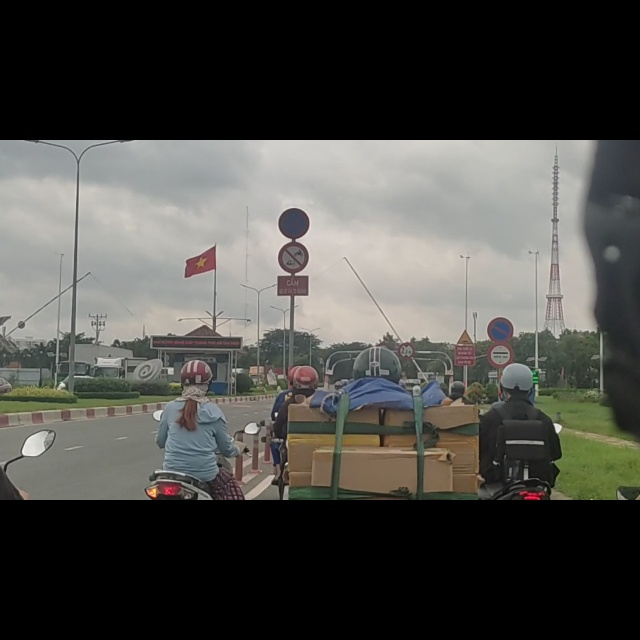bien_cam: (279, 180, 309, 236), (279, 121, 309, 174), (487, 314, 513, 359), (487, 360, 513, 403), (457, 337, 473, 365), (399, 360, 414, 389)
